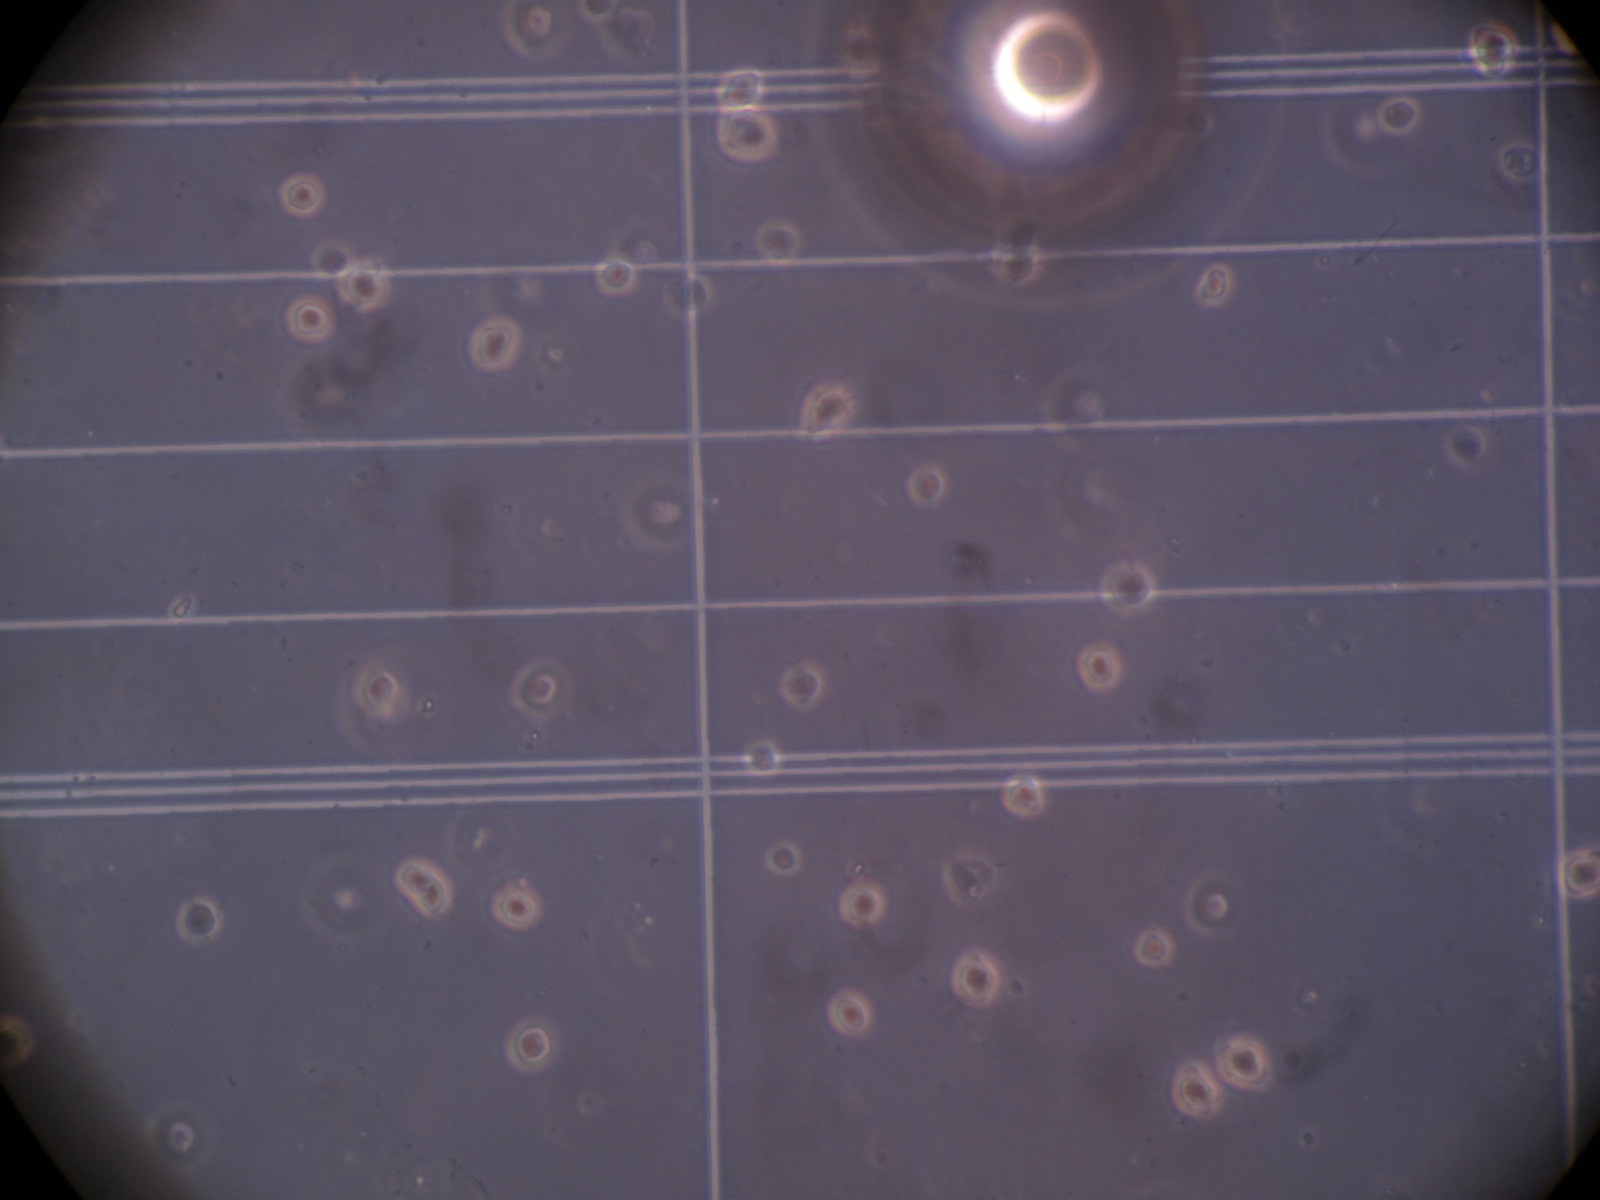hemo: (501, 1, 564, 61), (510, 661, 566, 725), (797, 382, 855, 442), (714, 110, 779, 163), (505, 1013, 559, 1075), (1214, 1034, 1272, 1090), (1184, 870, 1230, 939), (1170, 1061, 1223, 1119), (1100, 562, 1155, 616), (467, 315, 520, 372), (354, 666, 408, 718), (947, 952, 998, 1006), (283, 294, 336, 344), (339, 256, 387, 311), (1468, 23, 1518, 74), (837, 879, 887, 929), (491, 882, 542, 932), (175, 897, 222, 945), (1076, 644, 1121, 693), (826, 987, 871, 1037), (717, 66, 763, 112), (993, 245, 1043, 287), (905, 463, 950, 509), (751, 221, 799, 265), (780, 663, 824, 708), (1557, 852, 1600, 899), (1002, 771, 1043, 818), (281, 173, 324, 217), (1498, 141, 1541, 184), (1192, 263, 1232, 308), (1133, 924, 1173, 968), (1445, 425, 1484, 466), (1378, 97, 1419, 136), (412, 877, 452, 916), (396, 856, 430, 901), (596, 257, 634, 296), (310, 239, 350, 276), (741, 739, 779, 776), (766, 843, 803, 879), (576, 1, 617, 24)
